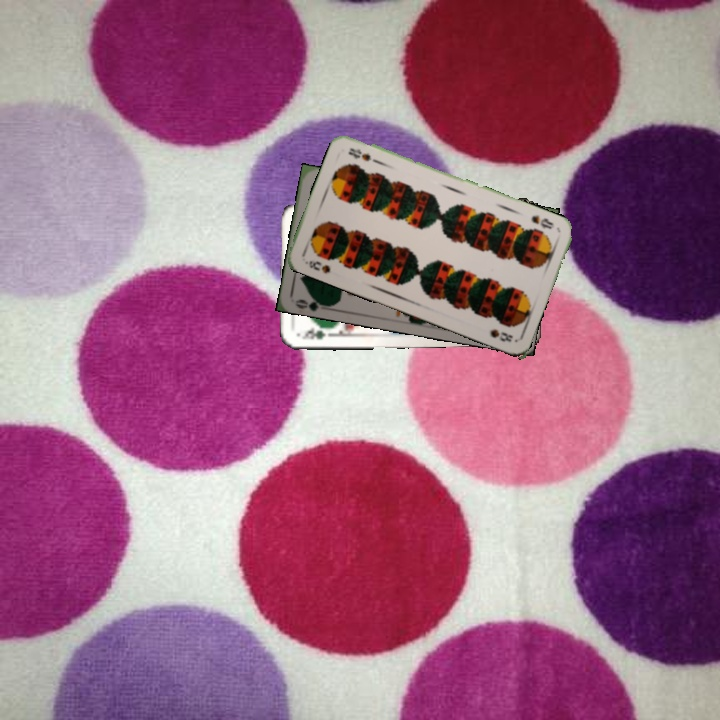GK: (297, 326, 336, 342)
GO: (292, 291, 333, 313)
S8: (301, 256, 333, 276), (527, 211, 557, 232)
